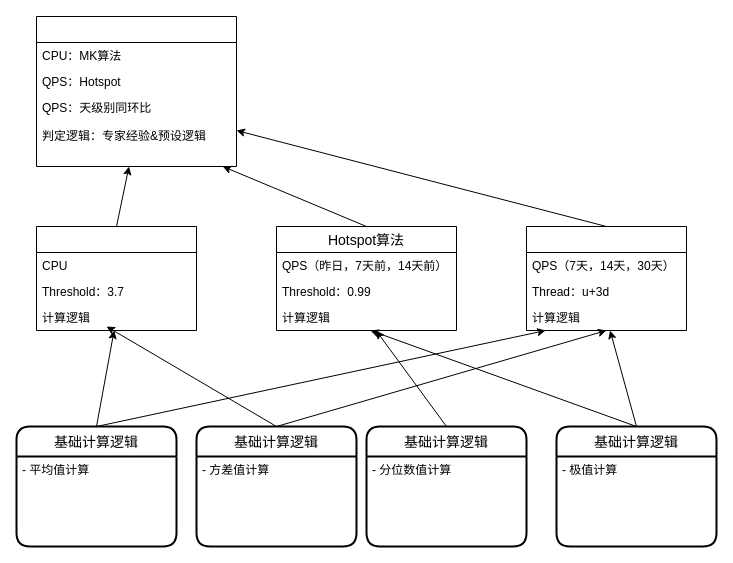
This 733x563 diagram has some shape labels left out. The shapes that lost their labels are listed below. From the top down, each one's box as (x1, y1, x2, y2) in pixels, then its label:
(36, 16, 236, 166): 风险识别算法（方案A）
(36, 226, 196, 330): MK算法
(526, 226, 686, 330): D2D判定
